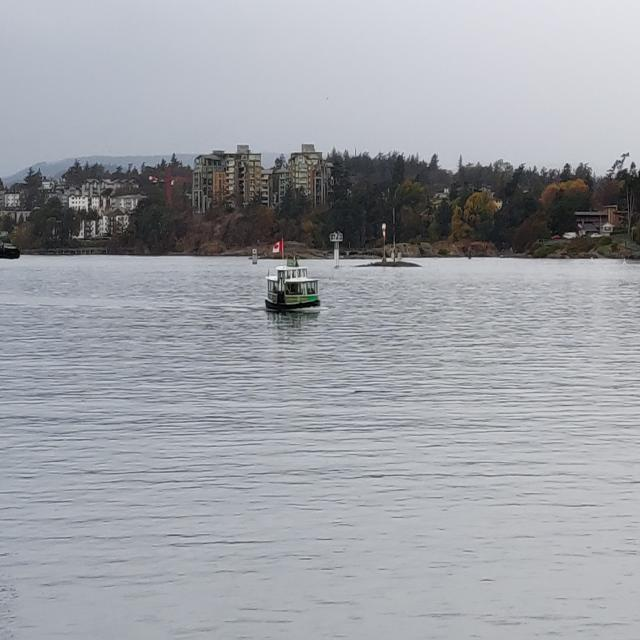boat: (264, 255, 321, 316)
mark: (251, 247, 259, 265)
